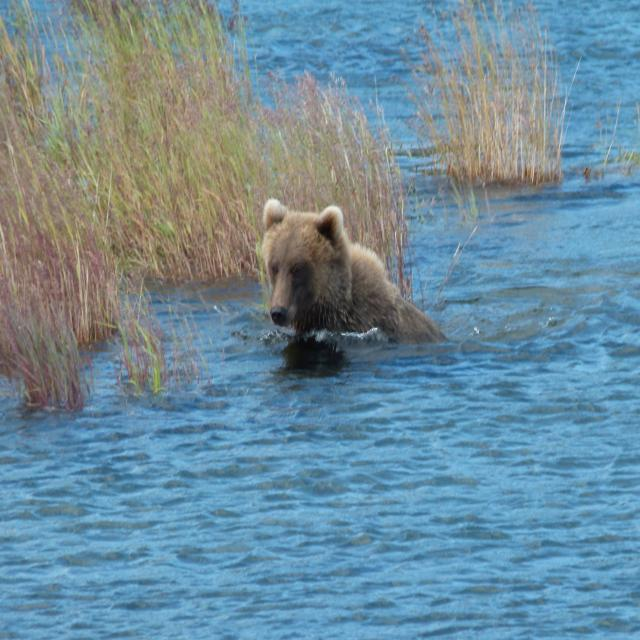bear face: (262, 197, 436, 341)
